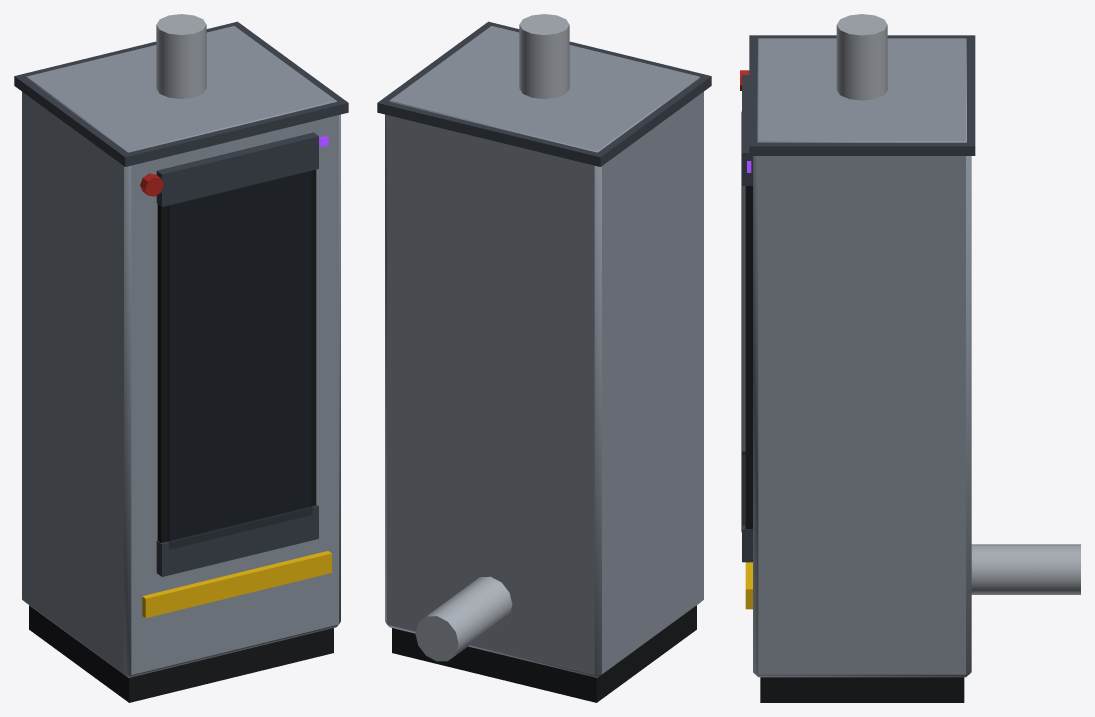
Rendered from scrubber_uv_air_sterilizer.glb.
3 renders of one model, left to right at view 1: azimuth 30°, elevation 25°; view 2: azimuth 150°, elevation 25°; view 3: azimuth 270°, elevation 25°, orthographic.
Visible parts, largest first — view 1: scrubber_uv_air_sterilizer; view 2: scrubber_uv_air_sterilizer; view 3: scrubber_uv_air_sterilizer.
Boxes of the visible parts, box(x1,y1,x2,y2) form: scrubber_uv_air_sterilizer: box(14, 14, 348, 702); scrubber_uv_air_sterilizer: box(377, 14, 711, 702); scrubber_uv_air_sterilizer: box(740, 14, 1080, 702).
Bounding box in the file's own units: 0.72 × 1.9 × 0.935.
